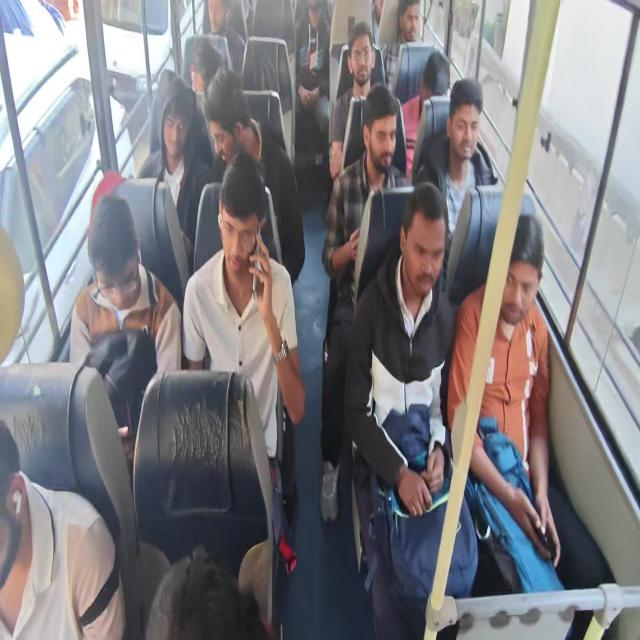person: (344, 181, 479, 638), (445, 211, 562, 575), (319, 84, 413, 524), (182, 152, 306, 467), (69, 193, 182, 470), (0, 419, 126, 639), (202, 66, 305, 285), (412, 76, 497, 283), (138, 78, 212, 265), (145, 543, 271, 639), (328, 21, 378, 182), (294, 1, 332, 187), (400, 50, 450, 180), (377, 0, 422, 95), (202, 0, 246, 76)
